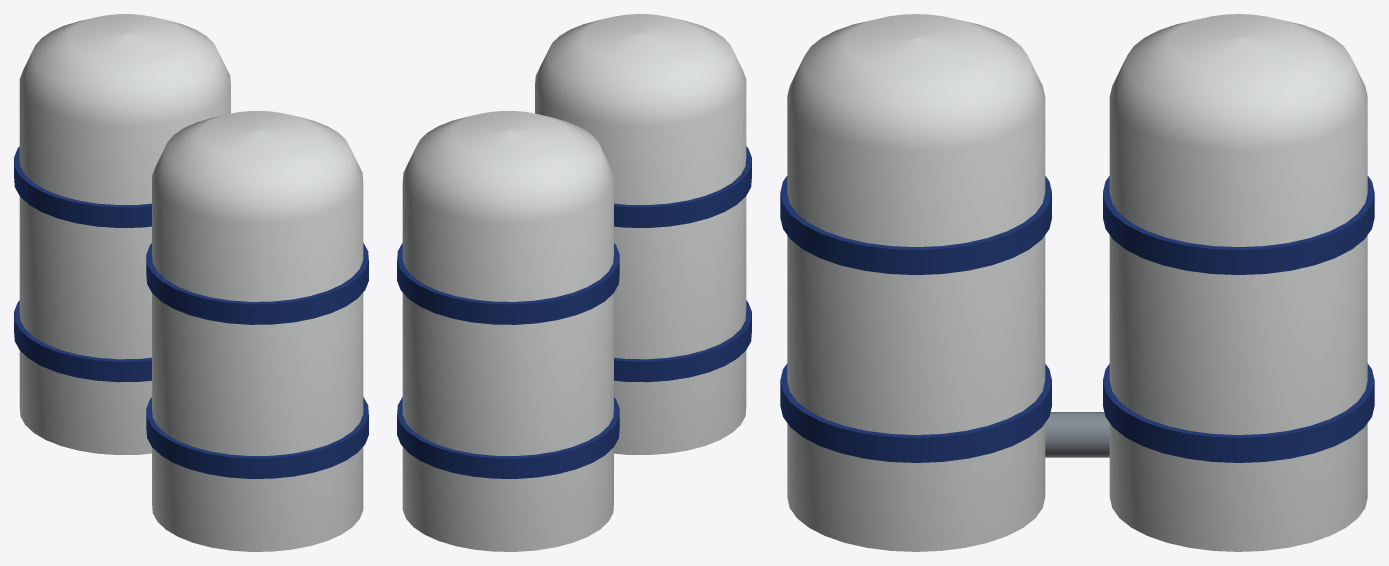
The model's file is l20_water.obj.
3 renders of one model, left to right at view 1: azimuth 30°, elevation 25°; view 2: azimuth 150°, elevation 25°; view 3: azimuth 270°, elevation 25°, orthographic. The views are drawn at different scales.
Visible parts, largest first — view 1: l20_water; view 2: l20_water; view 3: l20_water.
Part boxes in pixels (<box>): l20_water: <box>14,14,368,551</box>; l20_water: <box>397,14,751,551</box>; l20_water: <box>780,14,1374,551</box>.
Size of the model in its own units: 0.59 by 1.1 by 1.29.
